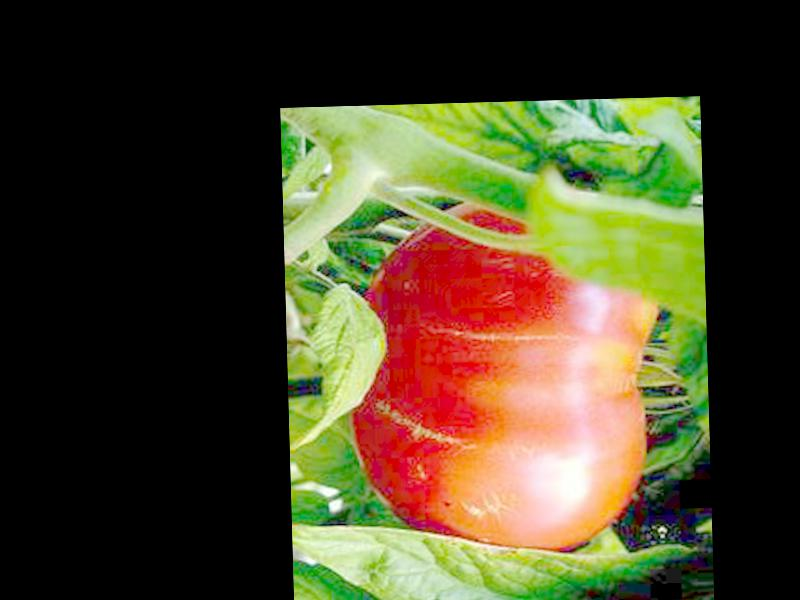Tomato: (346, 198, 666, 560)
